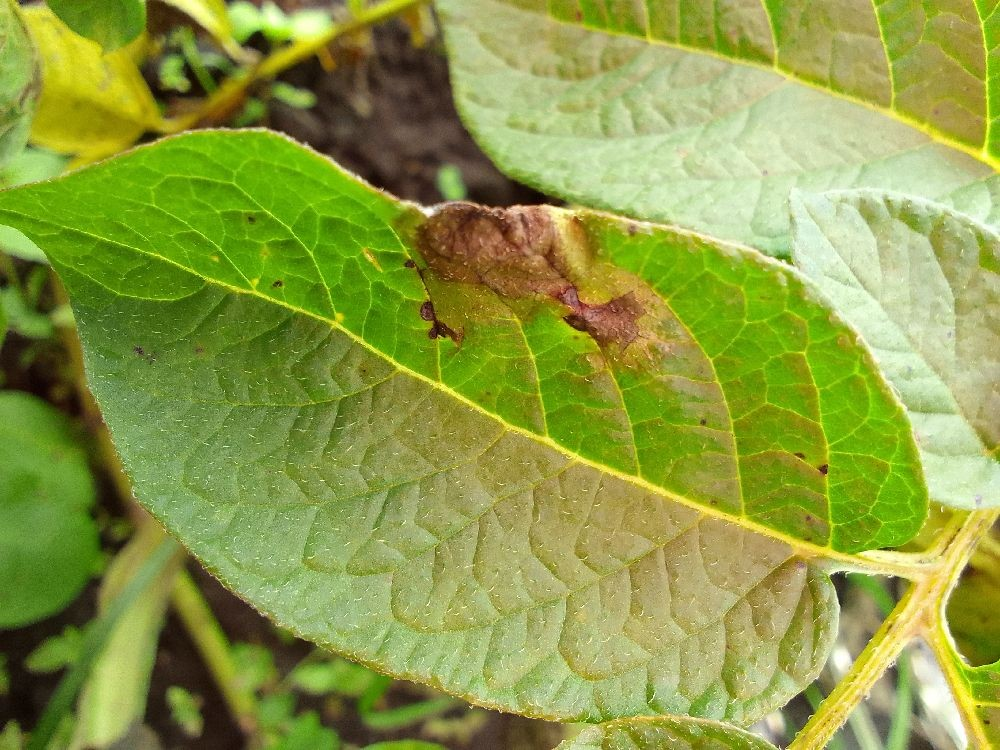late_blight: (886, 0, 1000, 157), (922, 493, 1000, 685), (788, 0, 903, 115)
